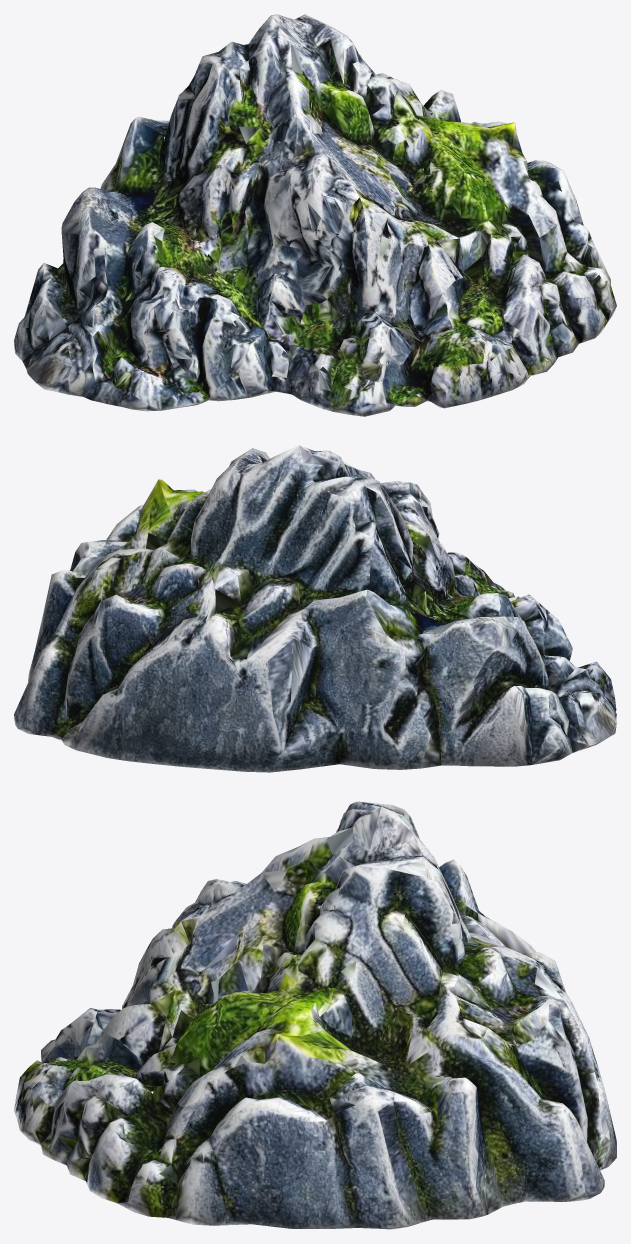
Rendered from rock.glb.
The picture shows the model from 3 angles, top to bottom: view 1: azimuth 30°, elevation 25°; view 2: azimuth 150°, elevation 25°; view 3: azimuth 270°, elevation 25°; orthographic projection. The views are drawn at different scales.
Parts seen in each view (by area): view 1: rock; view 2: rock; view 3: rock.
Part boxes in pixels (x1=…): rock: x1=14, y1=14, x2=616, y2=416; rock: x1=14, y1=445, x2=616, y2=772; rock: x1=14, y1=801, x2=616, y2=1229.
Bounding box in the file's own units: 2.11 × 1 × 1.9.
1 material, 1 textured.
